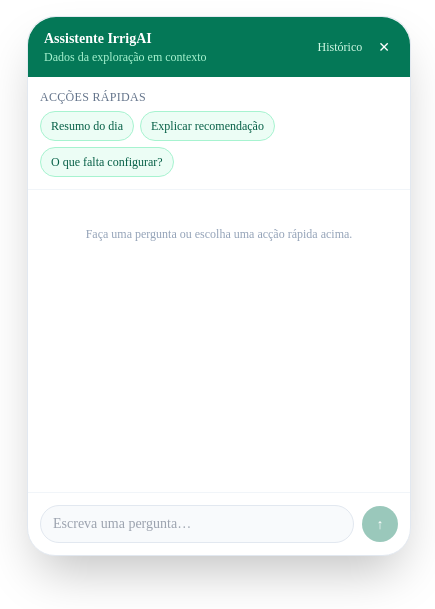
Test: ChatPanel › loading a conversation while an action is confirming (review 2026-09-23, B4) › refuses to swap the transcript from an already-open picker
The width and height of the screenshot is (435, 609).
Click the button with aria-label "Conversas anteriores". click: {"x": 340, "y": 47}
box: [310,35,370,59]
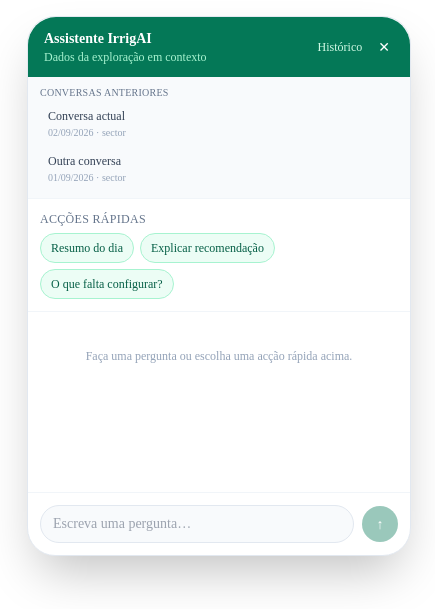
Type "calibrar" into the field with placeholder "Escreva uma pergunta…". click: {"x": 197, "y": 524}
box: [40,505,354,543]
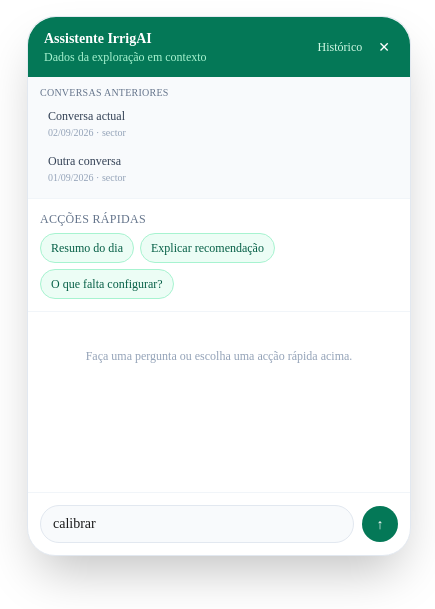
Click the button named "Enviar". click: {"x": 380, "y": 524}
box: [362,506,398,542]
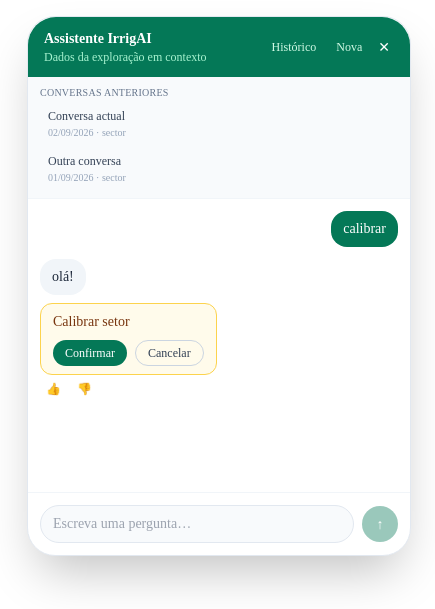
Click the button "Confirmar". click: {"x": 90, "y": 353}
box: [53,340,127,366]
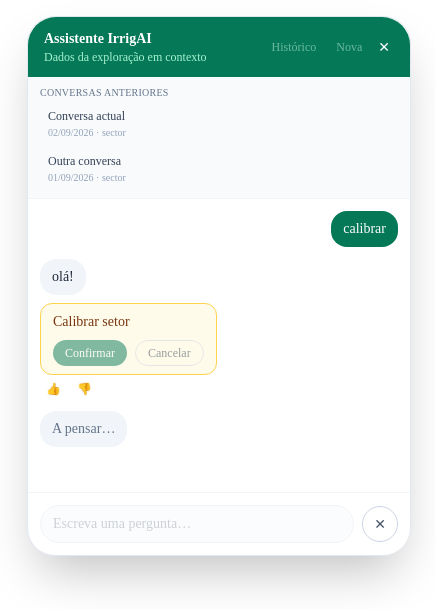
Click the text "Outra conversa". click: {"x": 84, "y": 161}
box: [48,154,121,168]
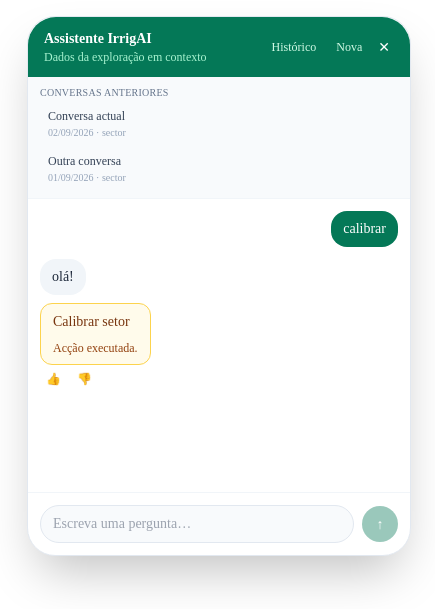
Now the field with placeholder "Escreva uma pergunta…" is enabled, box [40,505,354,543]
